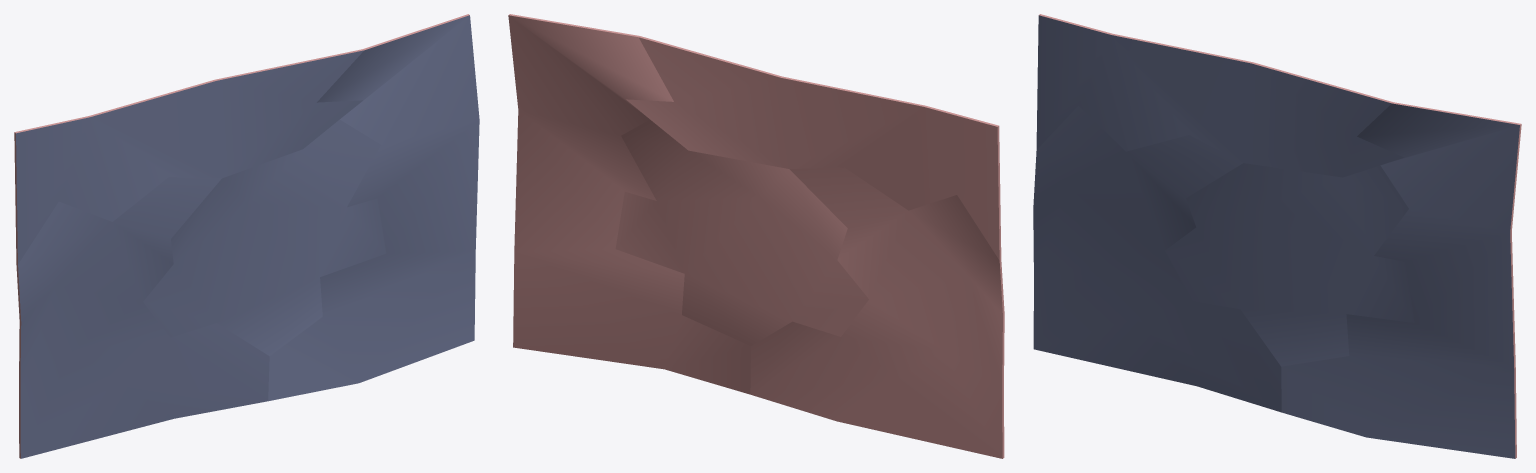
Rendered from Paper_Collectable_C.fbx.
The picture shows the model from 3 angles, left to right: view 1: azimuth 30°, elevation 25°; view 2: azimuth 150°, elevation 25°; view 3: azimuth 330°, elevation 25°; orthographic projection. The views are drawn at different scales.
Visible parts, largest first — view 1: Paper_Collectable_B; view 2: Paper_Collectable_B; view 3: Paper_Collectable_B.
Part boxes in pixels (x1,y1,x2,y2): Paper_Collectable_B: (14,14,479,458); Paper_Collectable_B: (508,14,1004,458); Paper_Collectable_B: (1033,14,1521,458).
Size of the model in its own units: 150 by 100 by 11.85.
